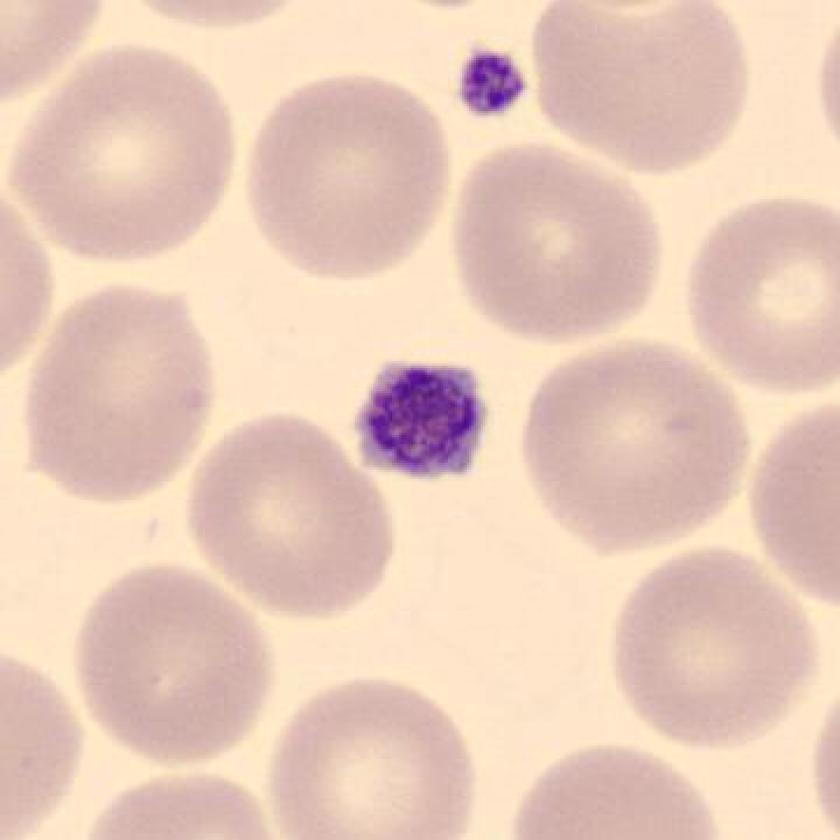platelets: (344, 348, 505, 494), (445, 34, 536, 136)
